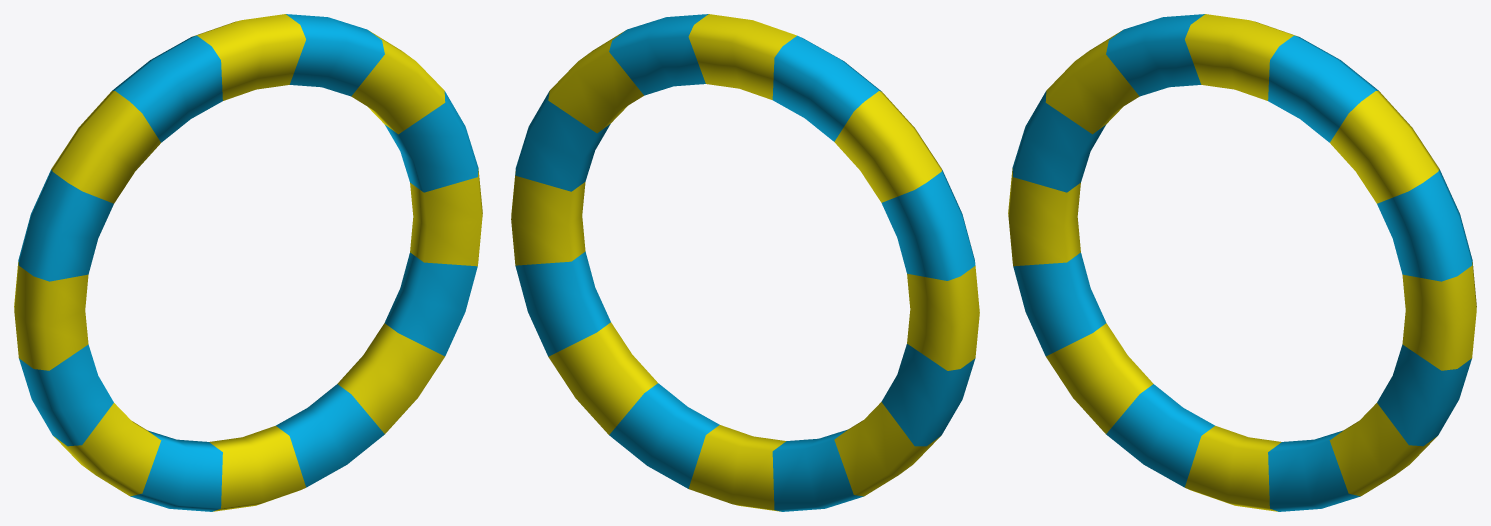
File: ring_blue.glb
3 views of the same model, side by side, from view 1: azimuth 30°, elevation 25°; view 2: azimuth 150°, elevation 25°; view 3: azimuth 330°, elevation 25° (orthographic).
Parts seen in each view (by area): view 1: Object_87; view 2: Object_87; view 3: Object_87.
Boxes of the visible parts, x1,y1,x2,y2 form: Object_87: (14,14,482,511); Object_87: (511,14,979,511); Object_87: (1008,14,1476,511).
Bounding box in the file's own units: 6.07 × 6.07 × 0.6775.
